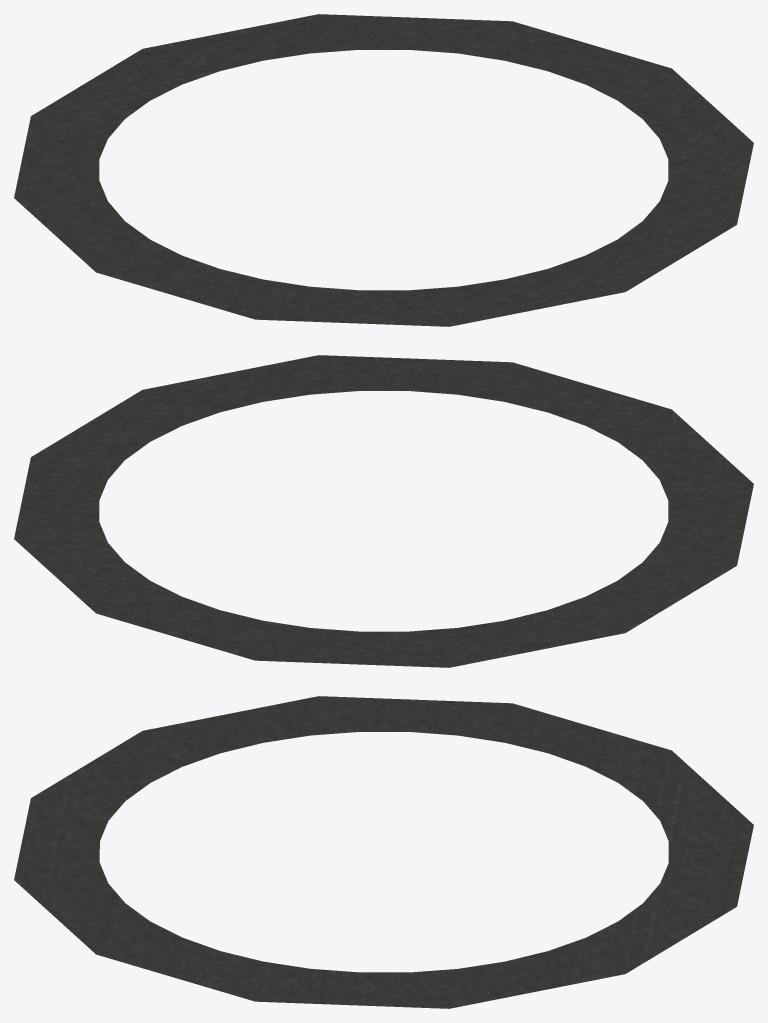
Rendered from main_up.fbx.
The picture shows the model from 3 angles, top to bottom: view 1: azimuth 30°, elevation 25°; view 2: azimuth 150°, elevation 25°; view 3: azimuth 270°, elevation 25°; orthographic projection.
Visible parts, largest first — view 1: up; view 2: up; view 3: up.
Boxes of the visible parts, x1=… form: up: x1=14, y1=14, x2=753, y2=326; up: x1=14, y1=355, x2=753, y2=667; up: x1=14, y1=696, x2=753, y2=1008.
Bounding box in the file's own units: 19.7 × 0.00889 × 19.7.
